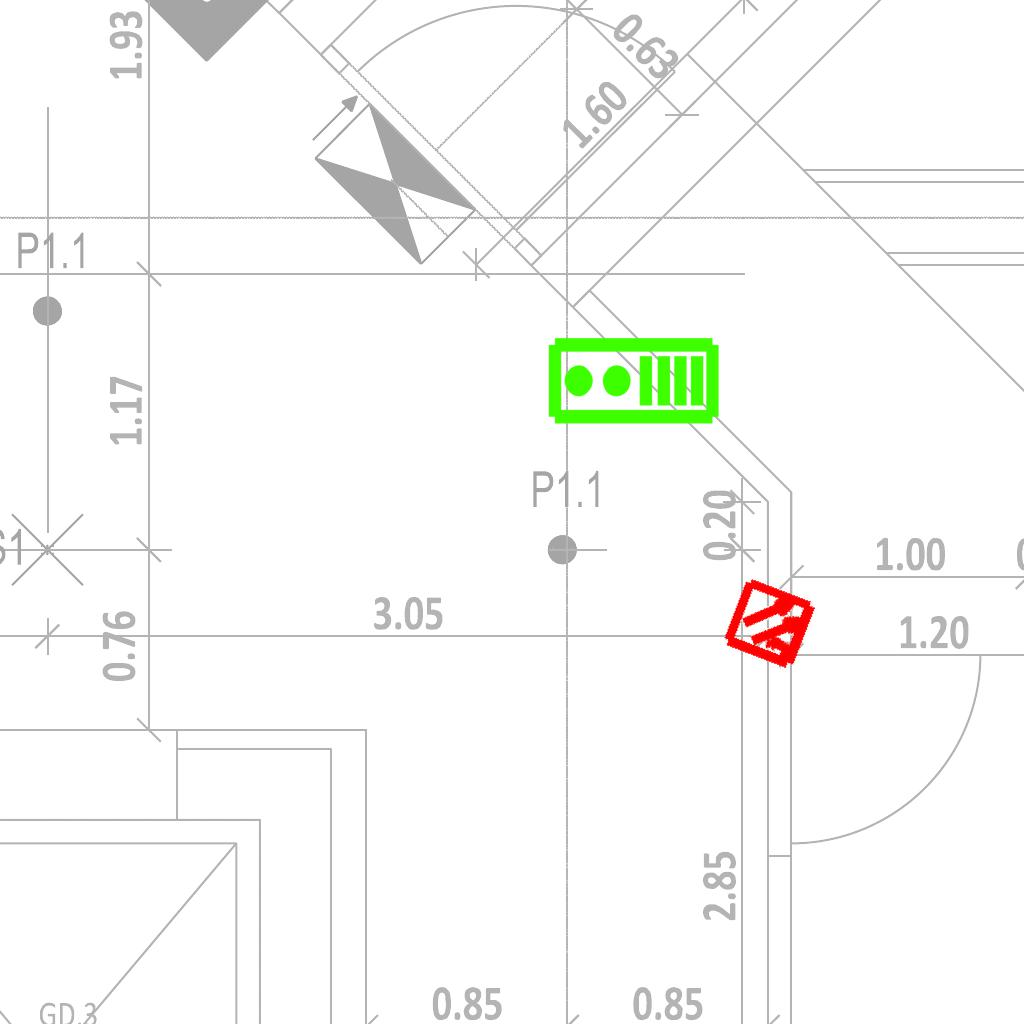Gegensprechanlage_mit_Video: (545, 335, 721, 430)
OT_Multisensormelder_(Kombination_RMO_WMD): (698, 551, 845, 698)
